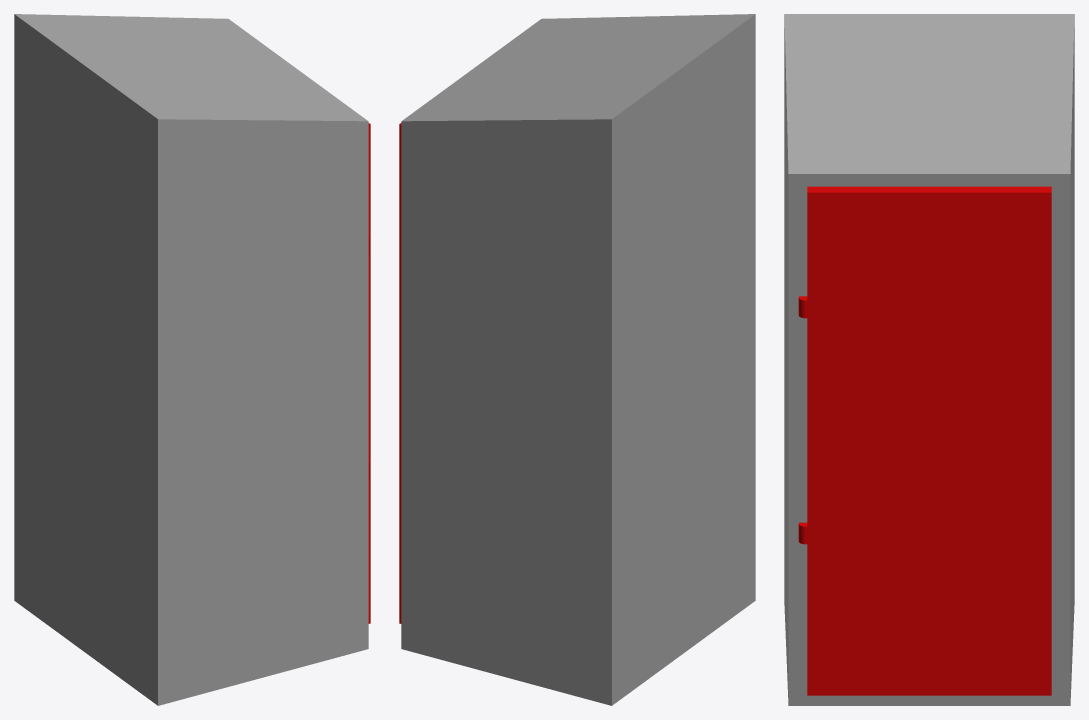
File: elskapgarattoppna.fbx
3 renders of one model, left to right at view 1: azimuth 30°, elevation 25°; view 2: azimuth 150°, elevation 25°; view 3: azimuth 270°, elevation 25°, orthographic.
Parts seen in each view (by area): view 1: pCube1, pasted__pCylinder1; view 2: pCube1, pasted__pCylinder1; view 3: pasted__pCylinder1, pCube1.
Part boxes in pixels (<box>): pCube1: <box>14,14,368,705</box>; pasted__pCylinder1: <box>368,123,370,623</box>; pCube1: <box>401,14,755,705</box>; pasted__pCylinder1: <box>399,123,401,623</box>; pasted__pCylinder1: <box>798,186,1051,695</box>; pCube1: <box>784,14,1074,705</box>.
Size of the model in its own units: 1.07 by 2.67 by 1.19.
